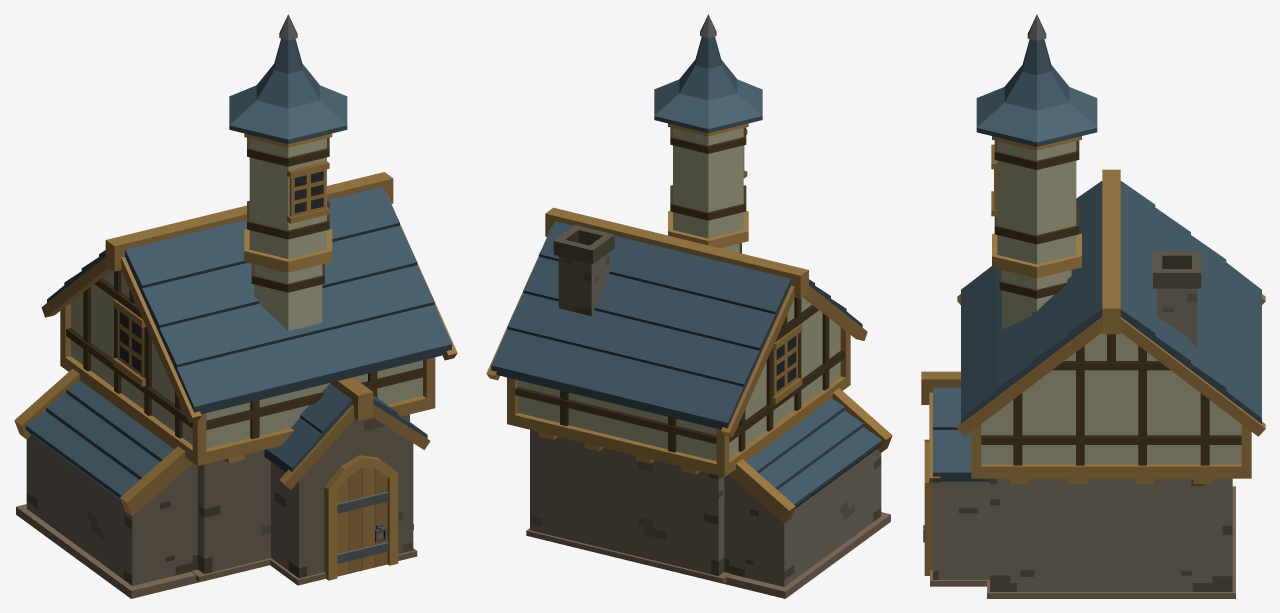
File: SF_Bld_House_Blue_02.fbx
The picture shows the model from 3 angles, left to right: view 1: azimuth 30°, elevation 25°; view 2: azimuth 150°, elevation 25°; view 3: azimuth 270°, elevation 25°; orthographic projection. The views are drawn at different scales.
Visible parts, largest first — view 1: SF_Bld_House_Blue_02; view 2: SF_Bld_House_Blue_02; view 3: SF_Bld_House_Blue_02.
Part boxes in pixels (bbox=[...]): SF_Bld_House_Blue_02: bbox=[14, 14, 457, 598]; SF_Bld_House_Blue_02: bbox=[486, 14, 892, 598]; SF_Bld_House_Blue_02: bbox=[921, 14, 1265, 598].
Size of the model in its own units: 12.12 by 19.13 by 11.11.
